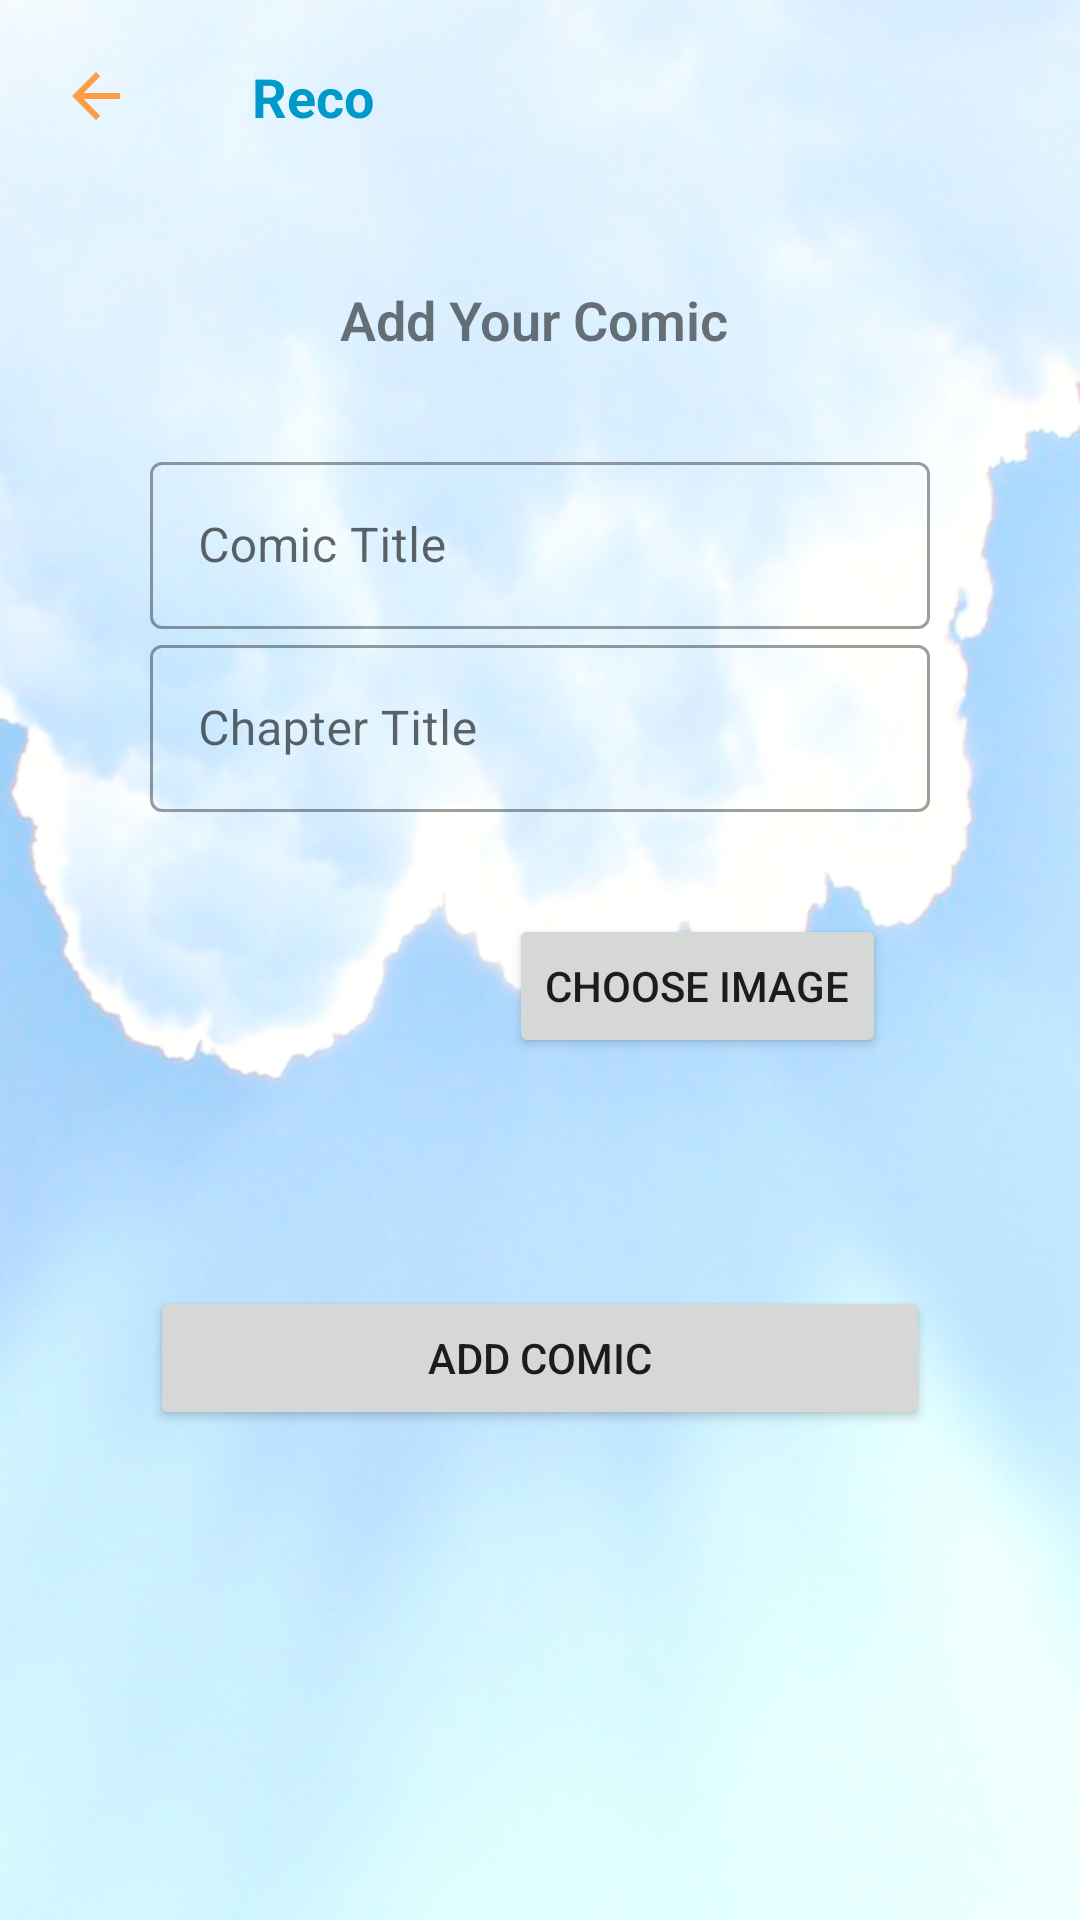

Named icons in this screenshot (1080x1920) and their bounding boxes, detection(x1, y1, x2, y2):
back: detection(72, 72, 120, 120)
